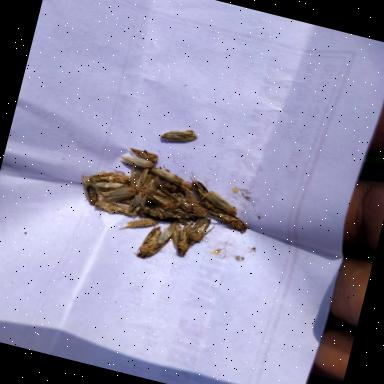pbw: (132, 221, 174, 265), (144, 160, 198, 194), (158, 187, 212, 219), (80, 162, 133, 192), (201, 202, 250, 234), (182, 171, 220, 210), (134, 201, 190, 226), (97, 179, 138, 209), (184, 212, 217, 249), (74, 170, 106, 208), (118, 211, 160, 239), (200, 188, 240, 216), (92, 196, 138, 219), (142, 188, 182, 213), (160, 122, 198, 148), (155, 174, 196, 198), (172, 220, 196, 256), (157, 217, 184, 248), (132, 165, 154, 197), (136, 172, 160, 200), (118, 152, 154, 170), (127, 188, 148, 216), (127, 146, 159, 162), (94, 176, 124, 192)
